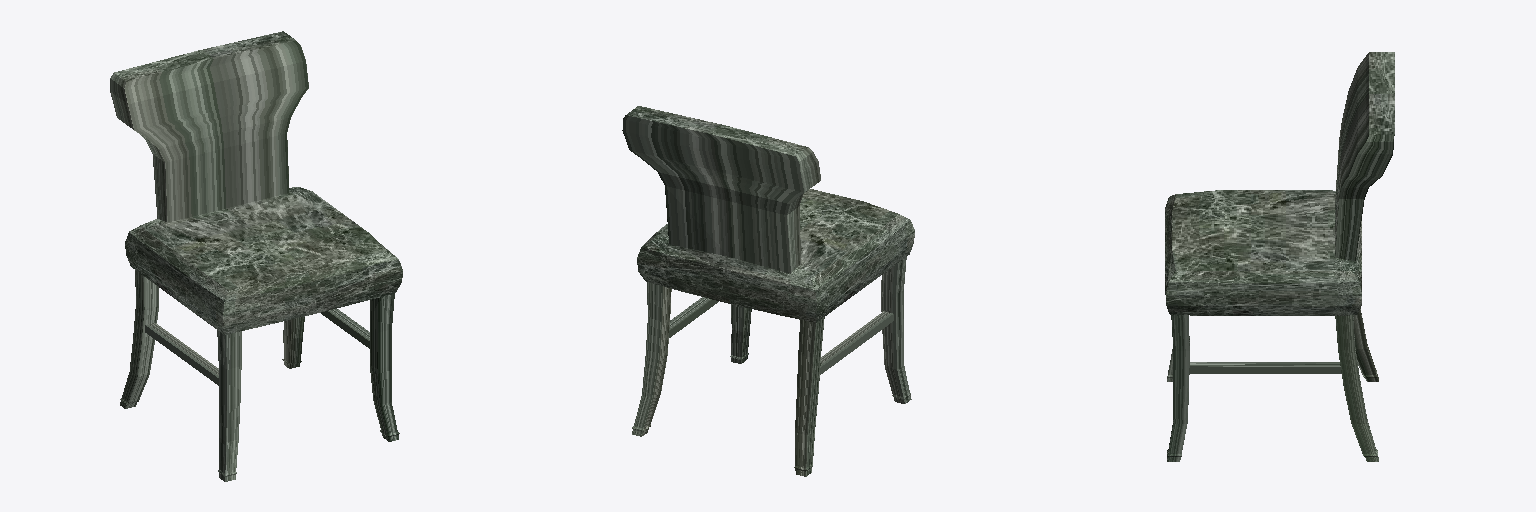
3 renders of one model, left to right at view 1: azimuth 30°, elevation 25°; view 2: azimuth 150°, elevation 25°; view 3: azimuth 270°, elevation 25°, orthographic.
Bounding box in the file's own units: 0.9514 × 1.65 × 1.05.
Materials: 1 (1 with a texture image).